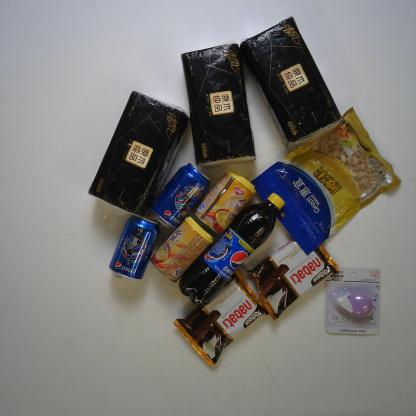Canned Food: (150, 216, 214, 284), (194, 170, 257, 235)
Dessert: (172, 268, 270, 366), (246, 238, 339, 322)
Dried Fruit: (250, 105, 402, 257)
Drink: (178, 192, 285, 306), (150, 162, 211, 229), (108, 213, 160, 282)
Stationery: (325, 267, 381, 335)
Tissue: (239, 16, 343, 148), (88, 90, 190, 218), (180, 40, 256, 168)
